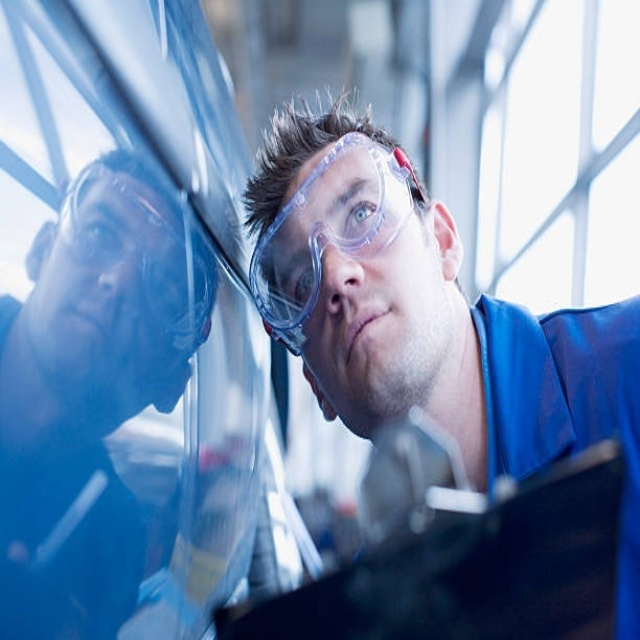Gafas: (251, 133, 421, 350), (63, 160, 212, 351)
Sin_mascara: (340, 296, 399, 403), (61, 295, 121, 386)
